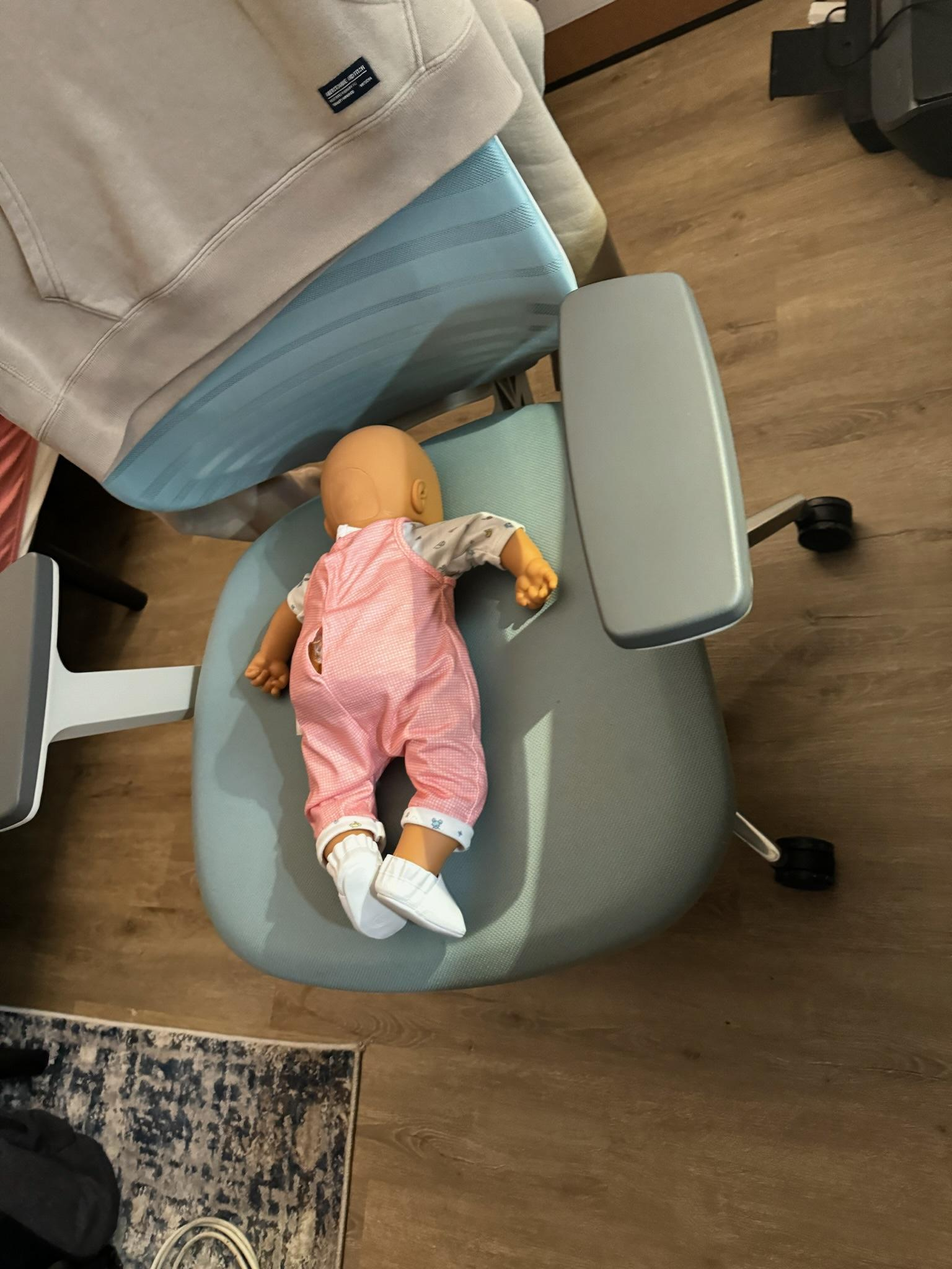baby: (225, 417, 568, 952)
